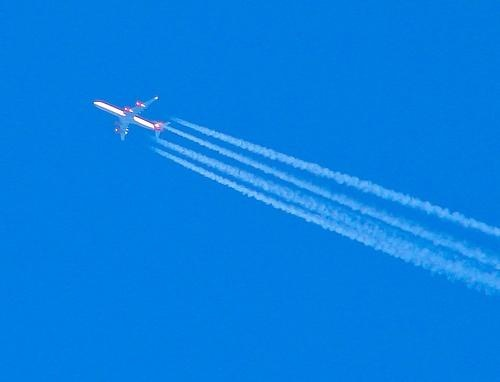aeroplane: (93, 98, 174, 144)
